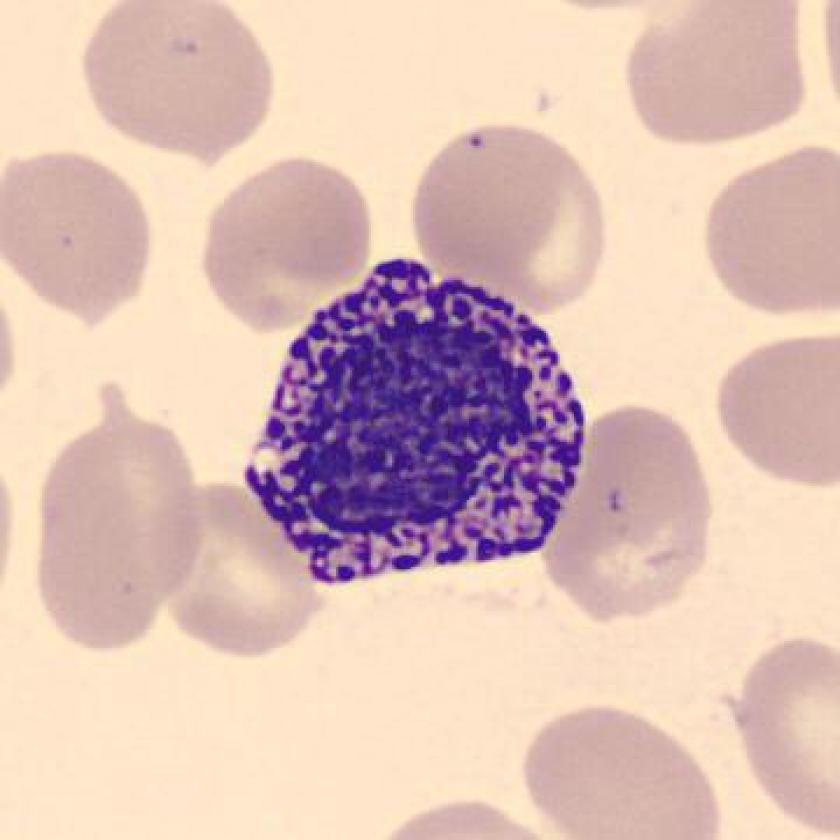basophil: (242, 244, 606, 605)
